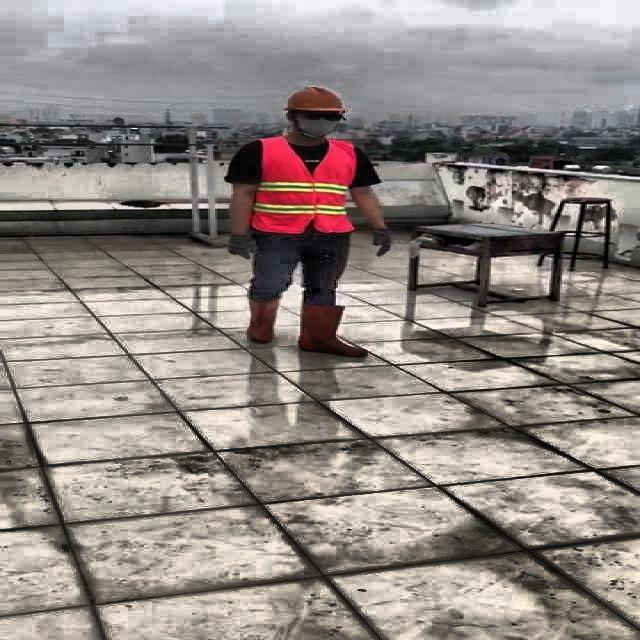safety_helmet: (285, 86, 346, 118)
safety_jacket: (255, 135, 358, 234)
